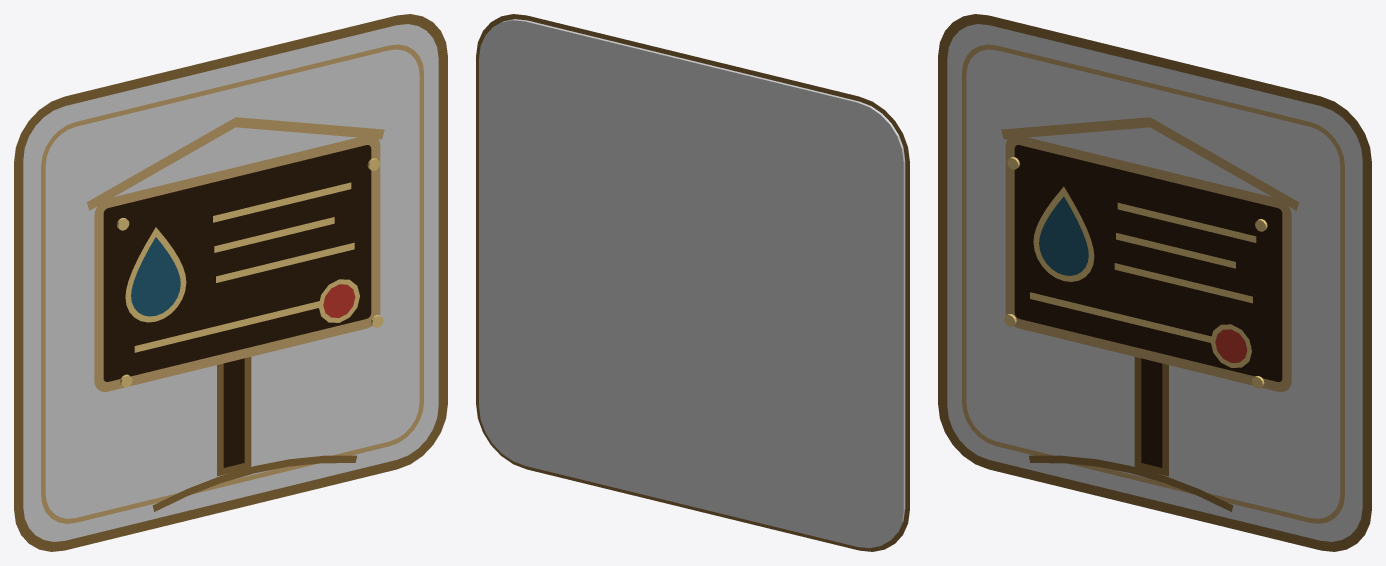
Rendered from obj-ukaz-poshliny.glb.
3 views of the same model, side by side, from view 1: azimuth 30°, elevation 25°; view 2: azimuth 150°, elevation 25°; view 3: azimuth 330°, elevation 25° (orthographic).
Visible parts, largest first — view 1: obj-ukaz-poshliny; view 2: obj-ukaz-poshliny; view 3: obj-ukaz-poshliny.
Part boxes in pixels (left/top/right/bottom): obj-ukaz-poshliny: left=14, top=14, right=447, bottom=551; obj-ukaz-poshliny: left=476, top=14, right=909, bottom=551; obj-ukaz-poshliny: left=938, top=14, right=1371, bottom=551.
Bounding box in the file's own units: 0.3917 × 0.3917 × 0.0401.
